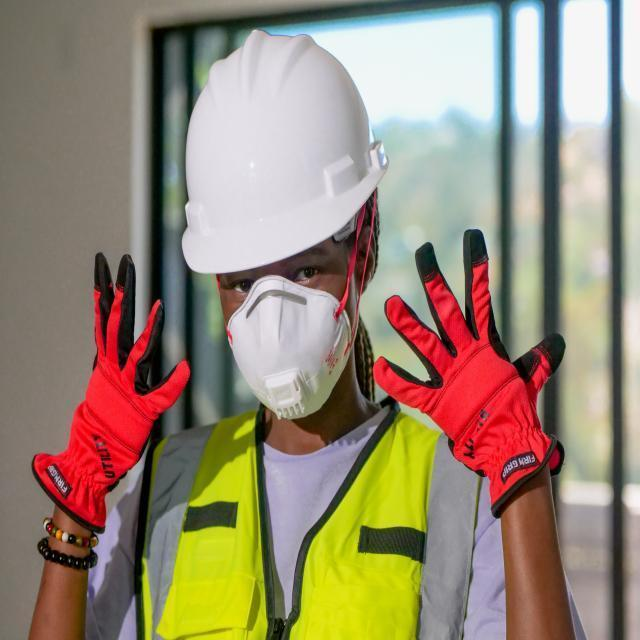Gloves: (369, 218, 577, 516), (10, 247, 197, 522)
Hardhat: (181, 30, 388, 272)
Person: (29, 25, 586, 640)
Safety Vest: (145, 425, 441, 640)
